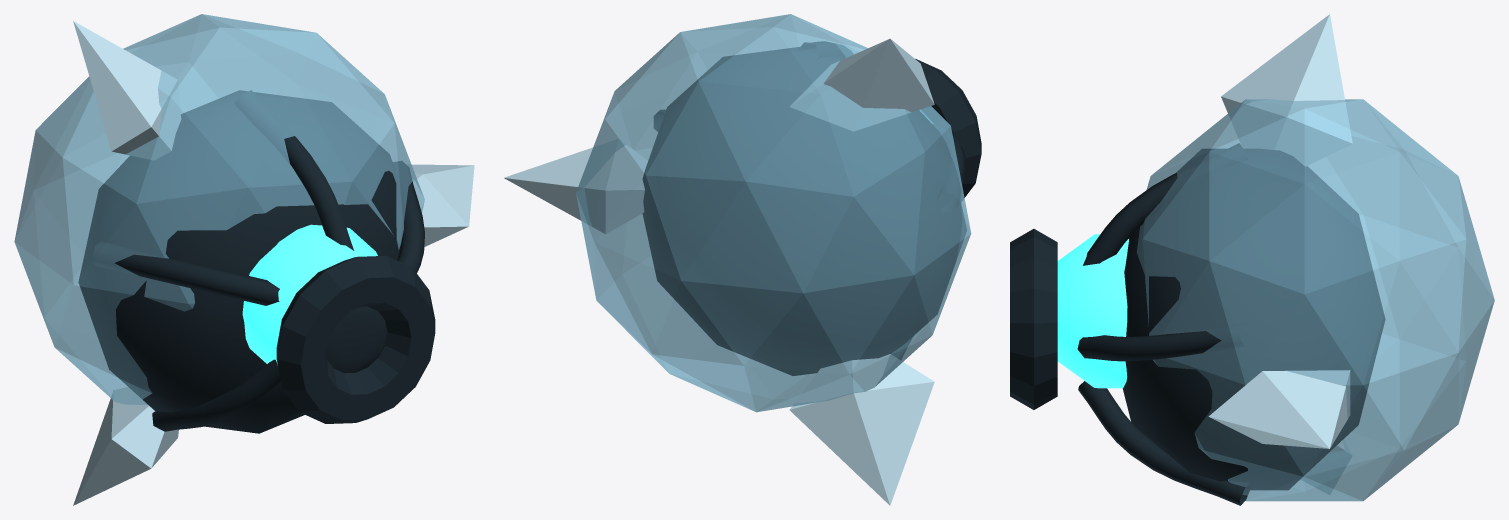
The model's file is PaintShooterEnemy.glb.
3 views of the same model, side by side, from view 1: azimuth 30°, elevation 25°; view 2: azimuth 150°, elevation 25°; view 3: azimuth 270°, elevation 25° (orthographic). The views are drawn at different scales.
Visible parts, largest first — view 1: PaintShooterEnemy; view 2: PaintShooterEnemy; view 3: PaintShooterEnemy.
Part boxes in pixels (x1=…): PaintShooterEnemy: x1=14, y1=14, x2=474, y2=505; PaintShooterEnemy: x1=504, y1=14, x2=981, y2=505; PaintShooterEnemy: x1=1010, y1=14, x2=1494, y2=505.
Bounding box in the file's own units: 2.4 × 2.51 × 2.29.
